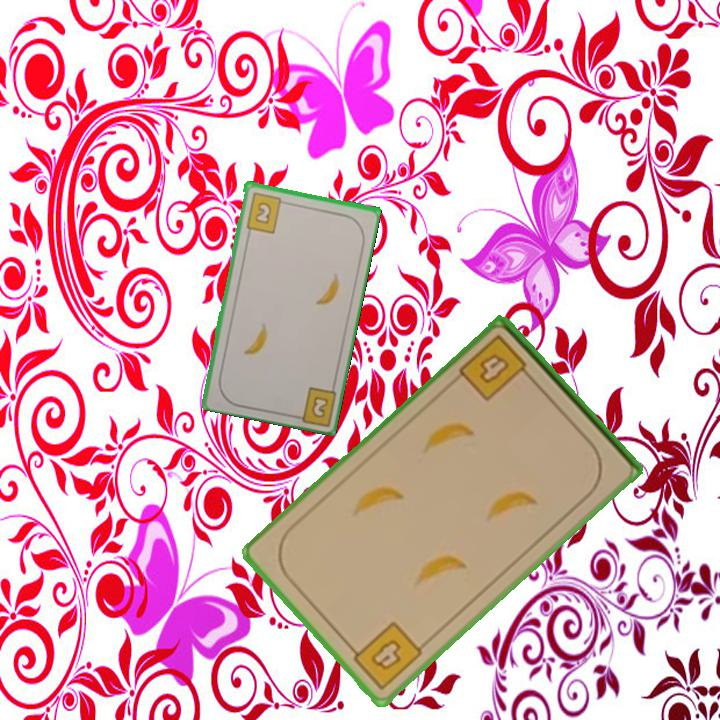2b: (242, 189, 290, 235), (289, 383, 339, 427)
4b: (344, 618, 426, 693), (455, 331, 536, 405)
